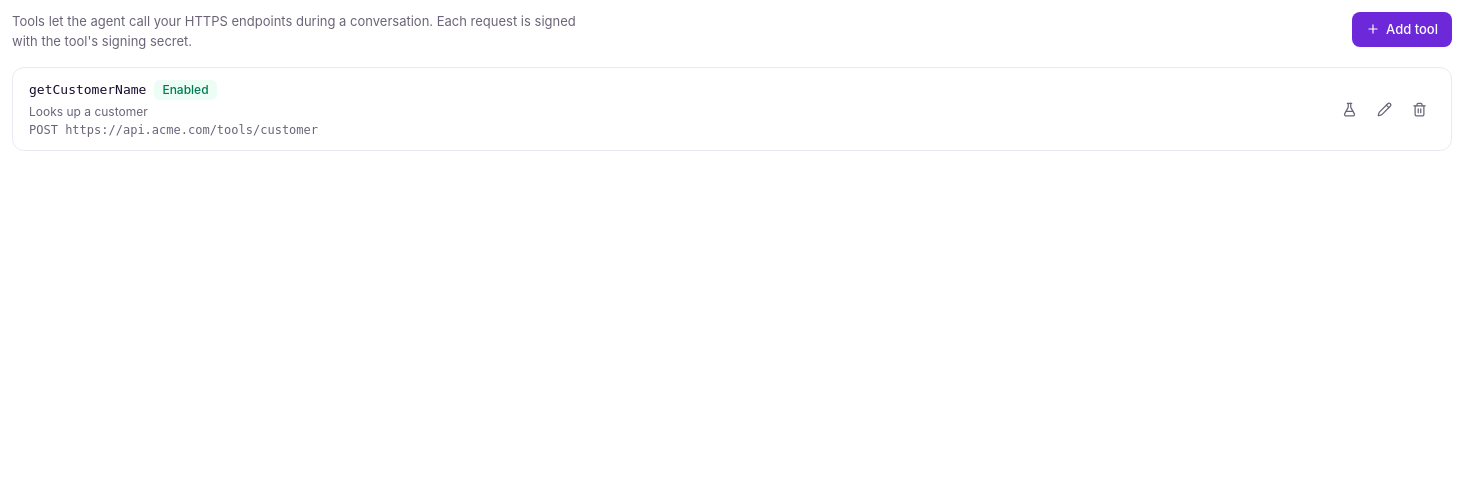
Test: ToolsPanel test call › sends sample arguments and shows status, latency and the response
The width and height of the screenshot is (1464, 488).
Click the button named "Test getCustomerName".
click(1350, 109)  # box [1334, 94, 1365, 124]
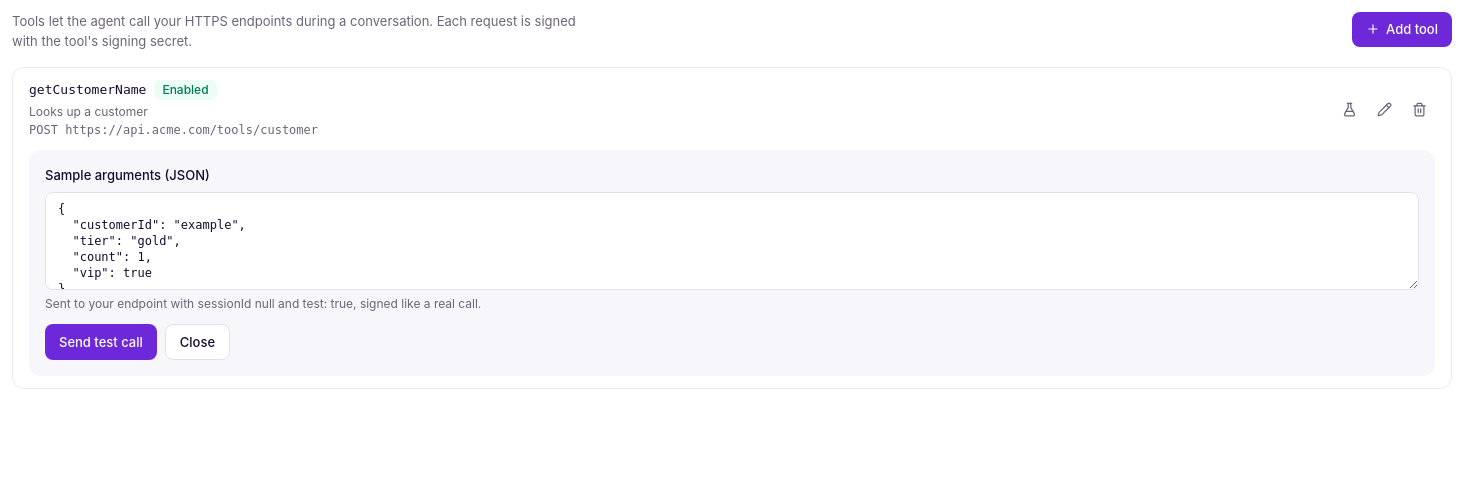
Click the button "Send test call".
click(101, 342)  # box [45, 324, 157, 360]
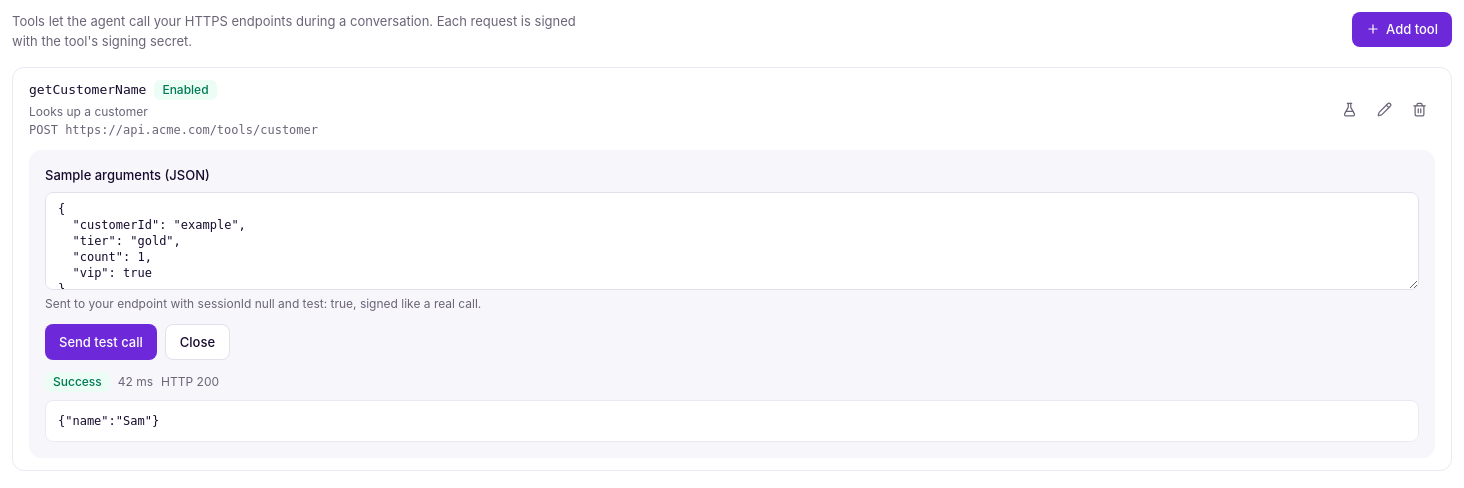
Now the element with test id "tool-test-result" is shown, box [45, 372, 1419, 442]
Now the text "Success" is shown, box [45, 372, 110, 392]
Now the text "42 ms" is shown, box [118, 374, 153, 390]
